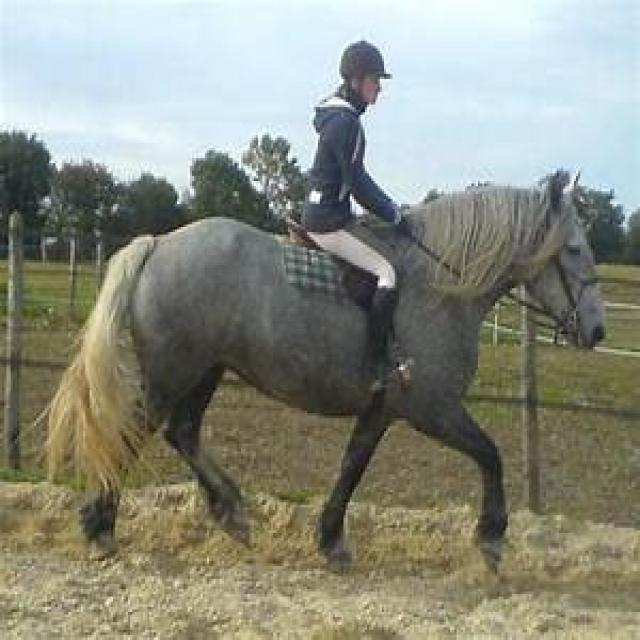animal: (23, 166, 606, 574)
